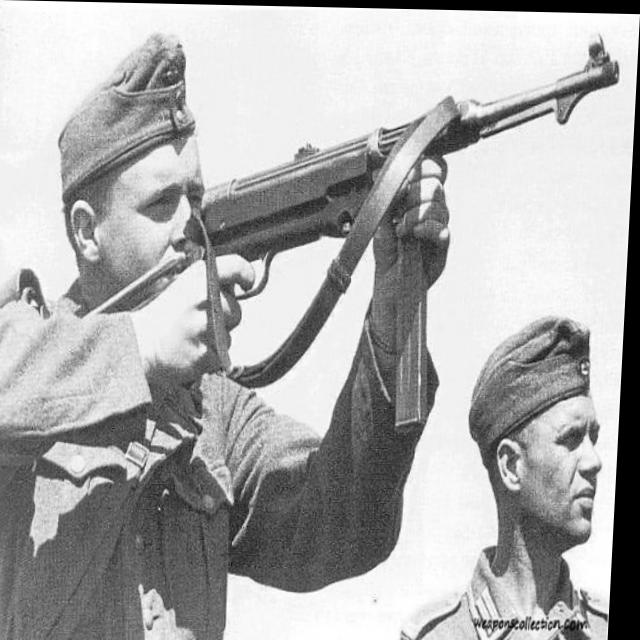other: (0, 17, 270, 640), (430, 258, 630, 640)
